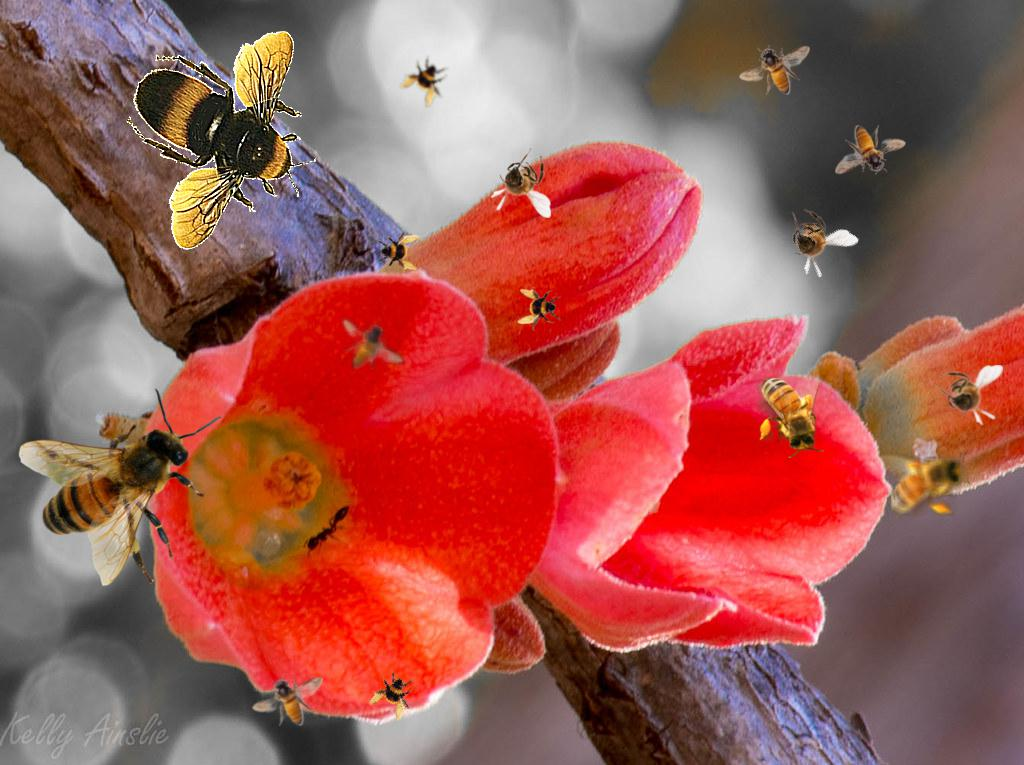Bee: (126, 31, 317, 251), (18, 387, 222, 586), (767, 196, 860, 288), (326, 301, 408, 388), (877, 450, 970, 518), (756, 365, 824, 458), (933, 365, 1003, 426), (490, 148, 551, 218), (396, 50, 458, 112), (365, 665, 425, 725), (835, 125, 906, 175), (252, 676, 323, 726), (739, 45, 810, 95), (517, 287, 561, 331), (376, 228, 420, 272)
